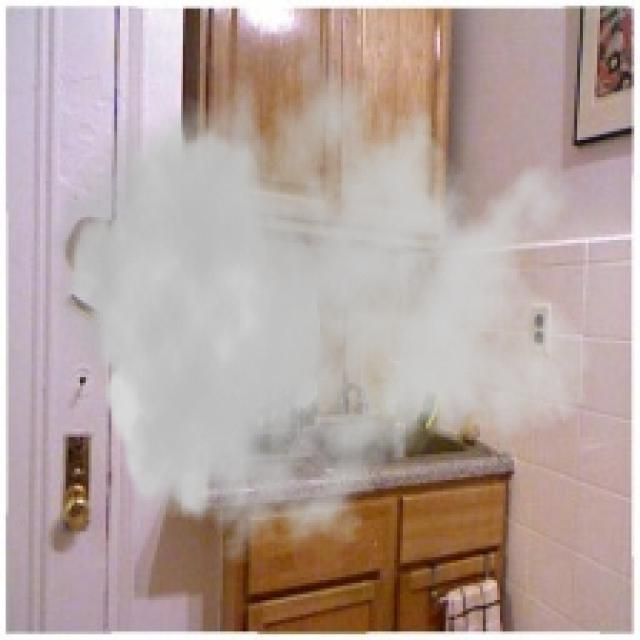Smoke: (51, 12, 594, 574)
